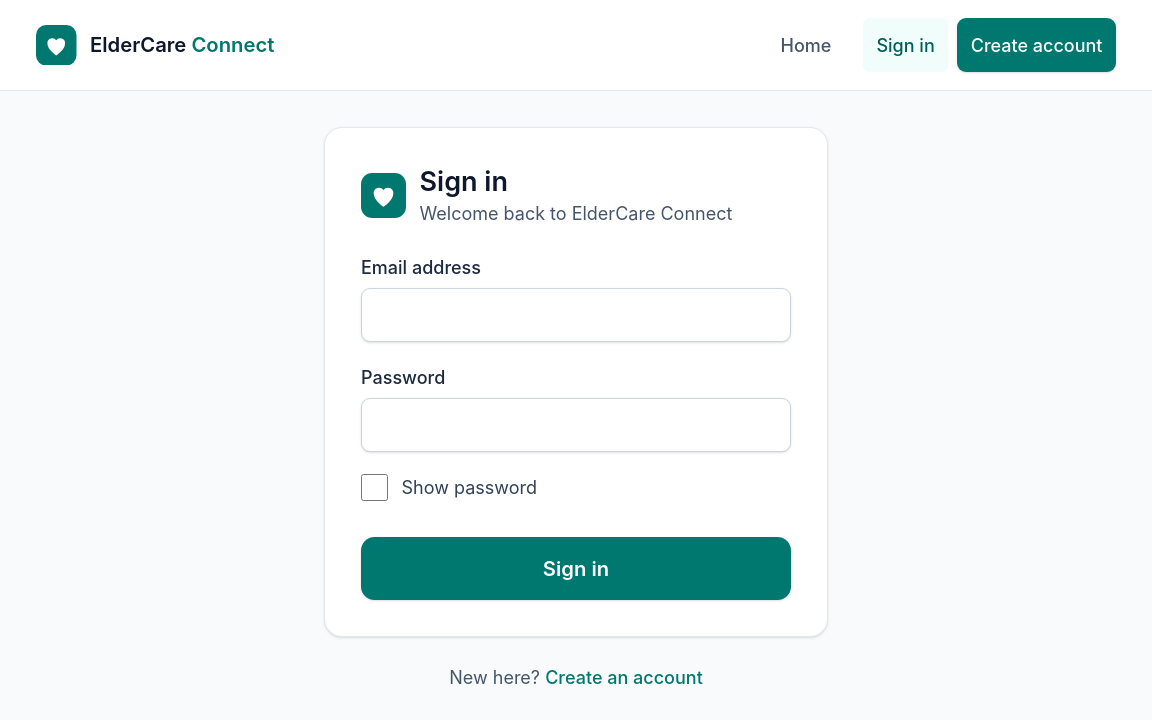
Test: login › shows a generic error for wrong credentials and stays signed out
In the field labelled "Email address": (576, 315) [361, 288, 791, 342], type "jane@example.com"
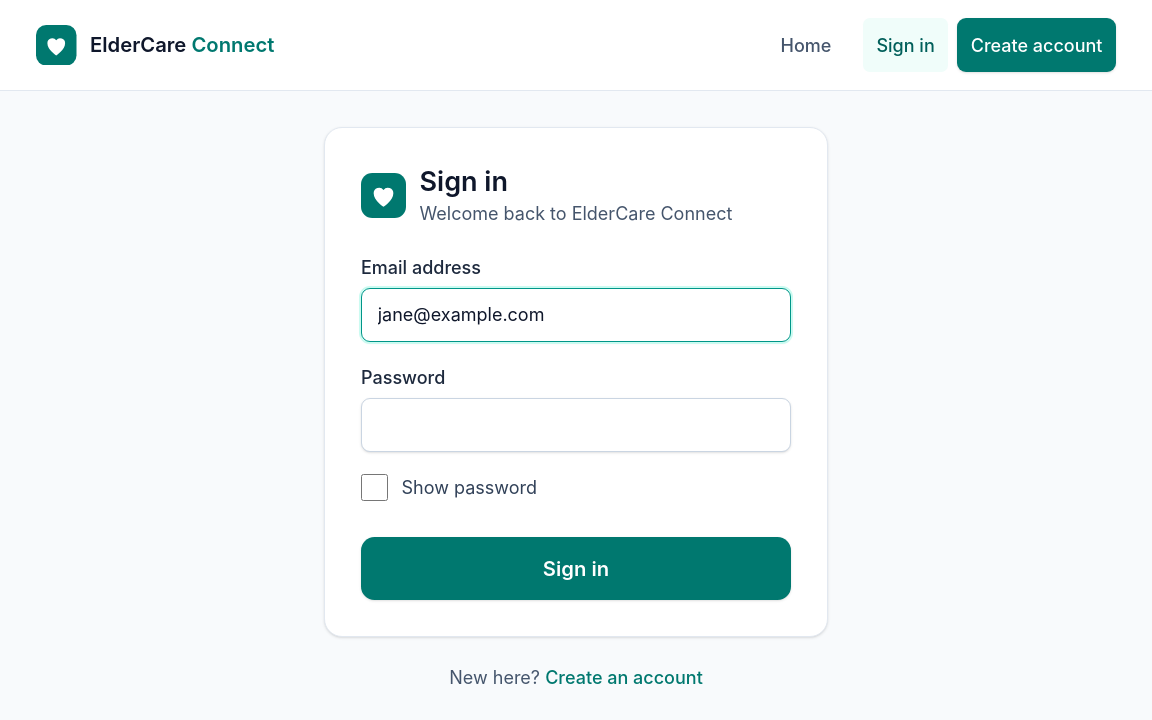
In the password field labelled "Password": (576, 425) [361, 398, 791, 452], type "WrongPassword1"
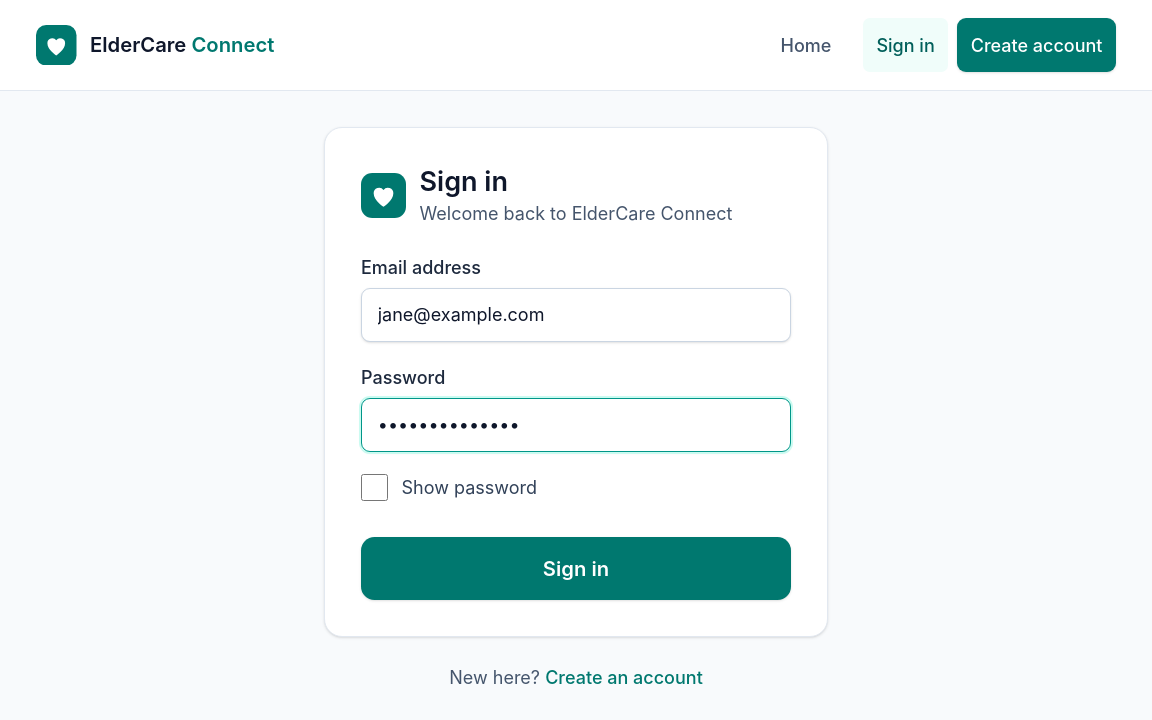
Click the button "Sign in": (576, 569) [361, 538, 791, 600]
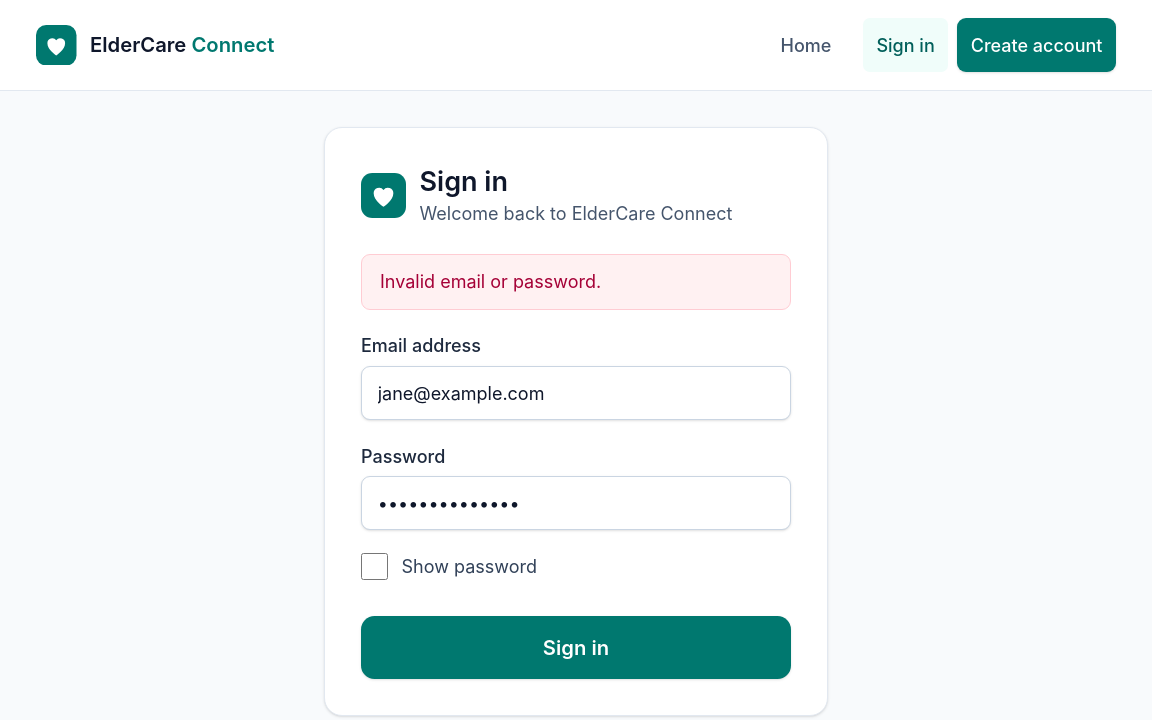
Now the message reads "Invalid email or password.", box [380, 272, 601, 292]
